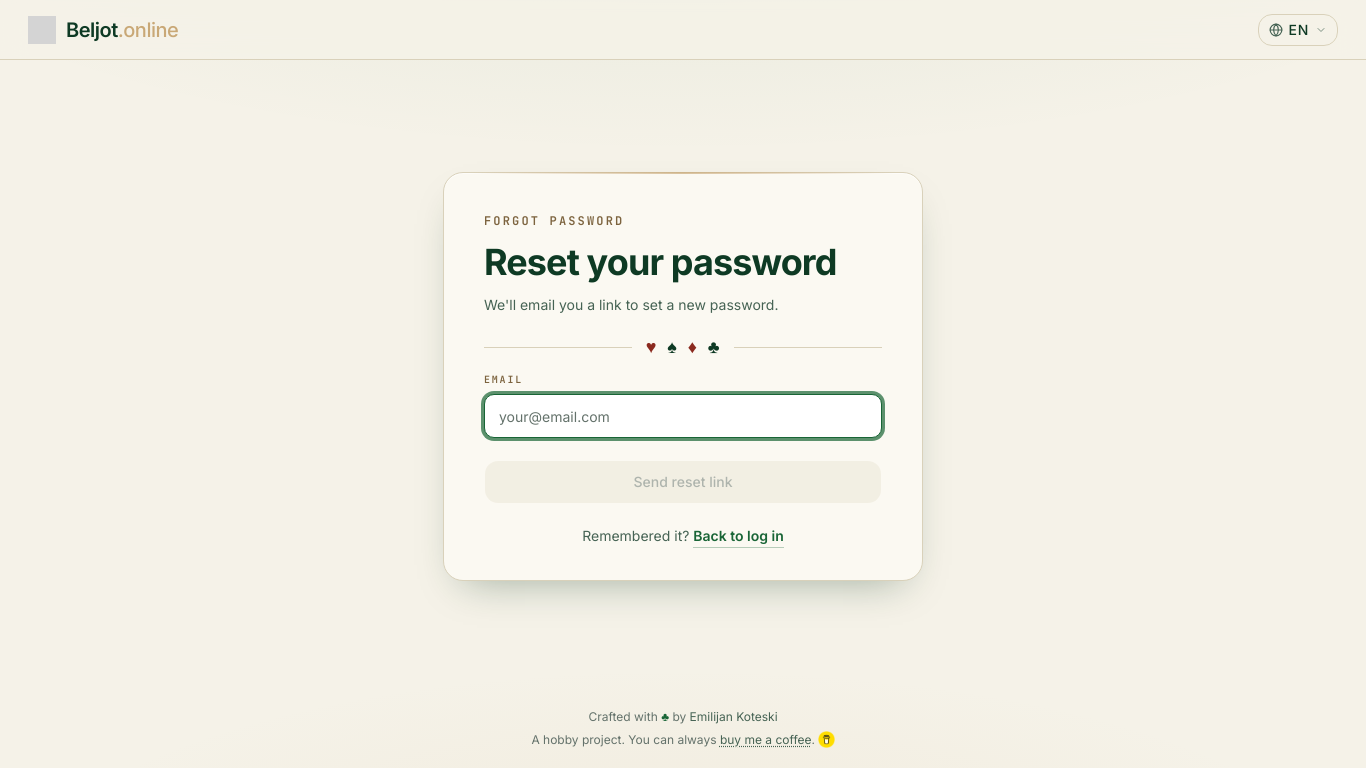
Test: ForgotPasswordPage › shows a validation error for an invalid email
This screenshot has width=1366, height=768.
Type "not-an-email" into the field with test id "email-input". click: (683,416)
box: [484,394,882,438]
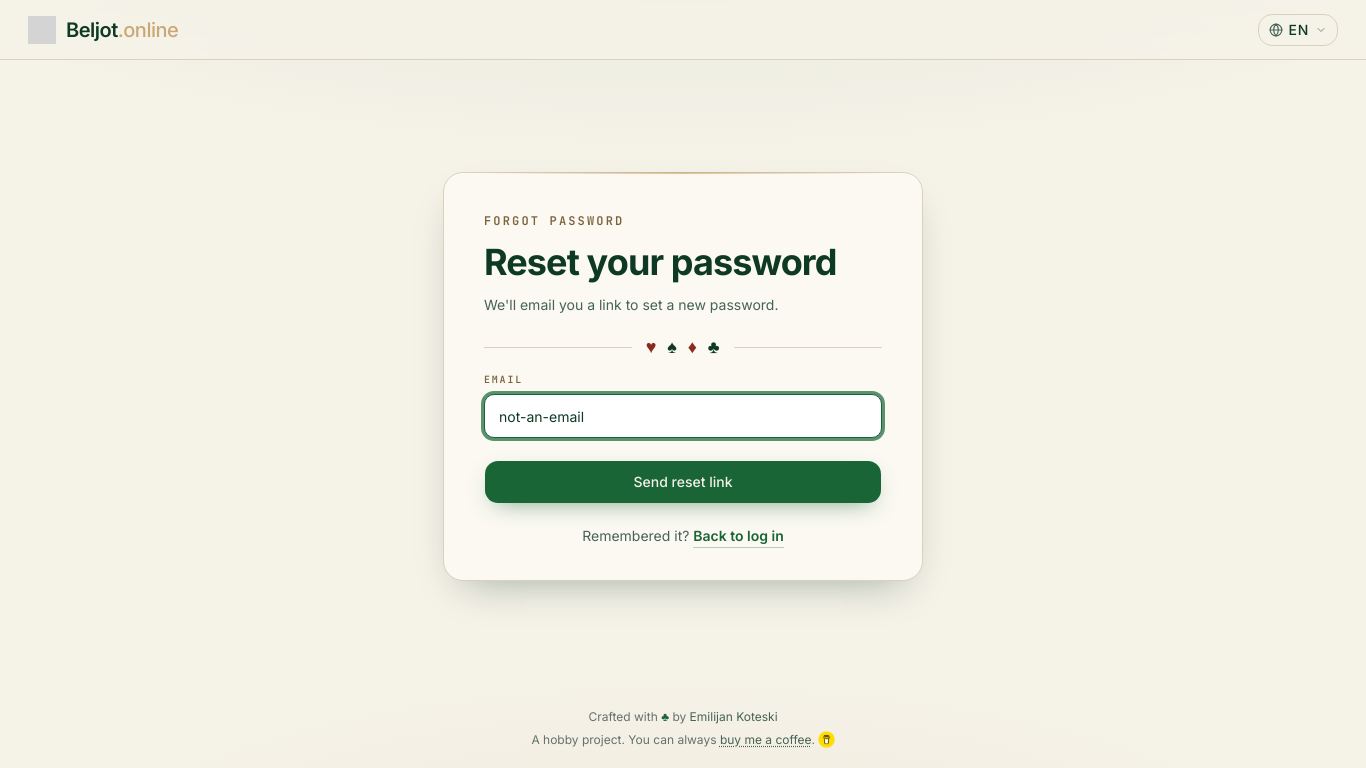
Press Tab
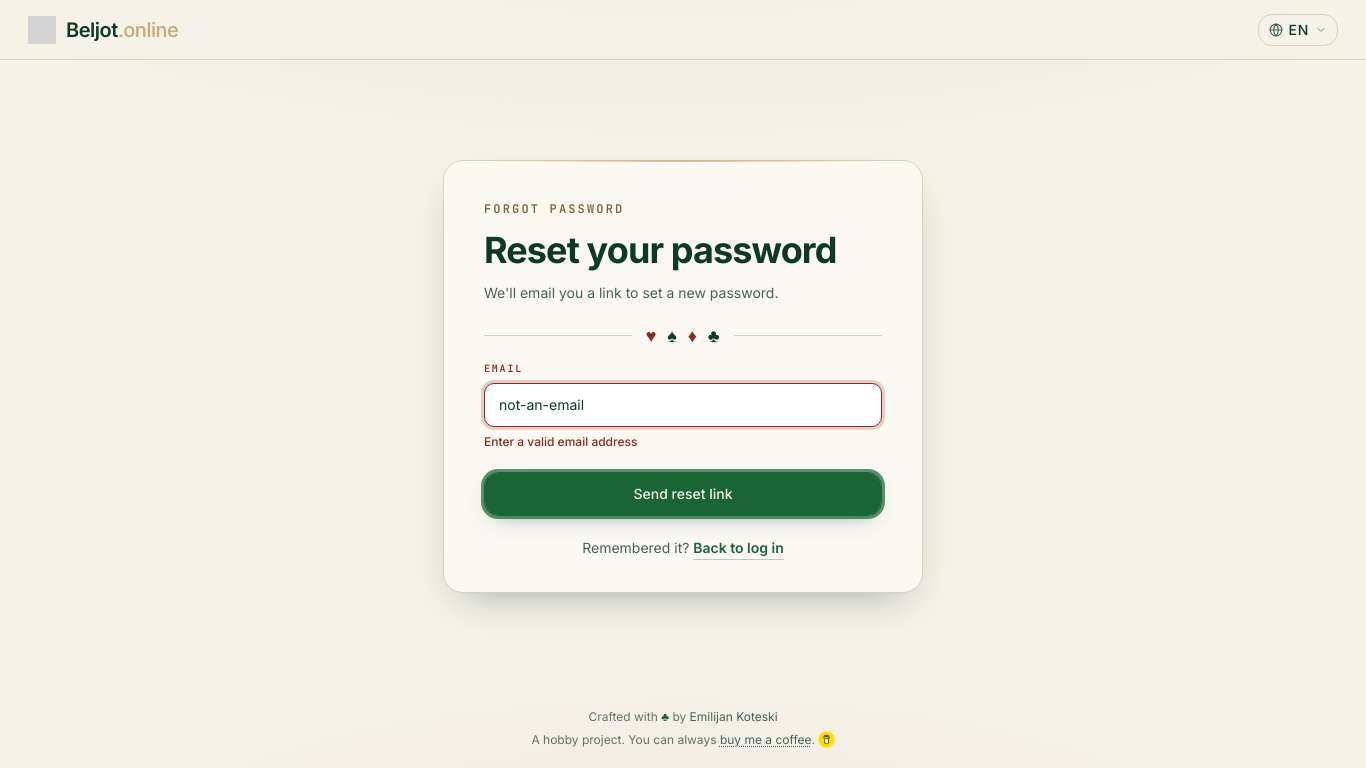
Result: the text with test id "email-error" reads "Enter a valid email address" at [484,434,637,449]
